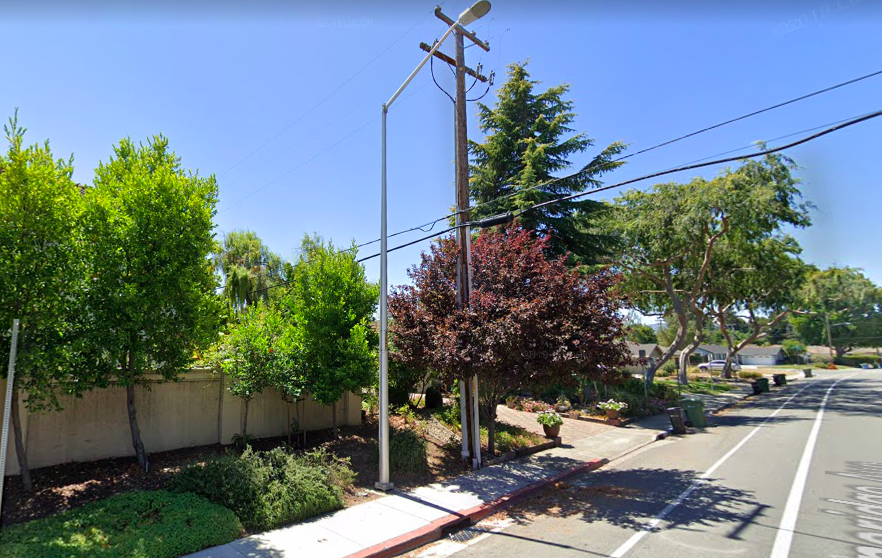tree: (388, 220, 633, 460), (597, 160, 818, 386), (78, 131, 226, 468), (220, 237, 380, 454)
utility_pole: (410, 1, 497, 121)
